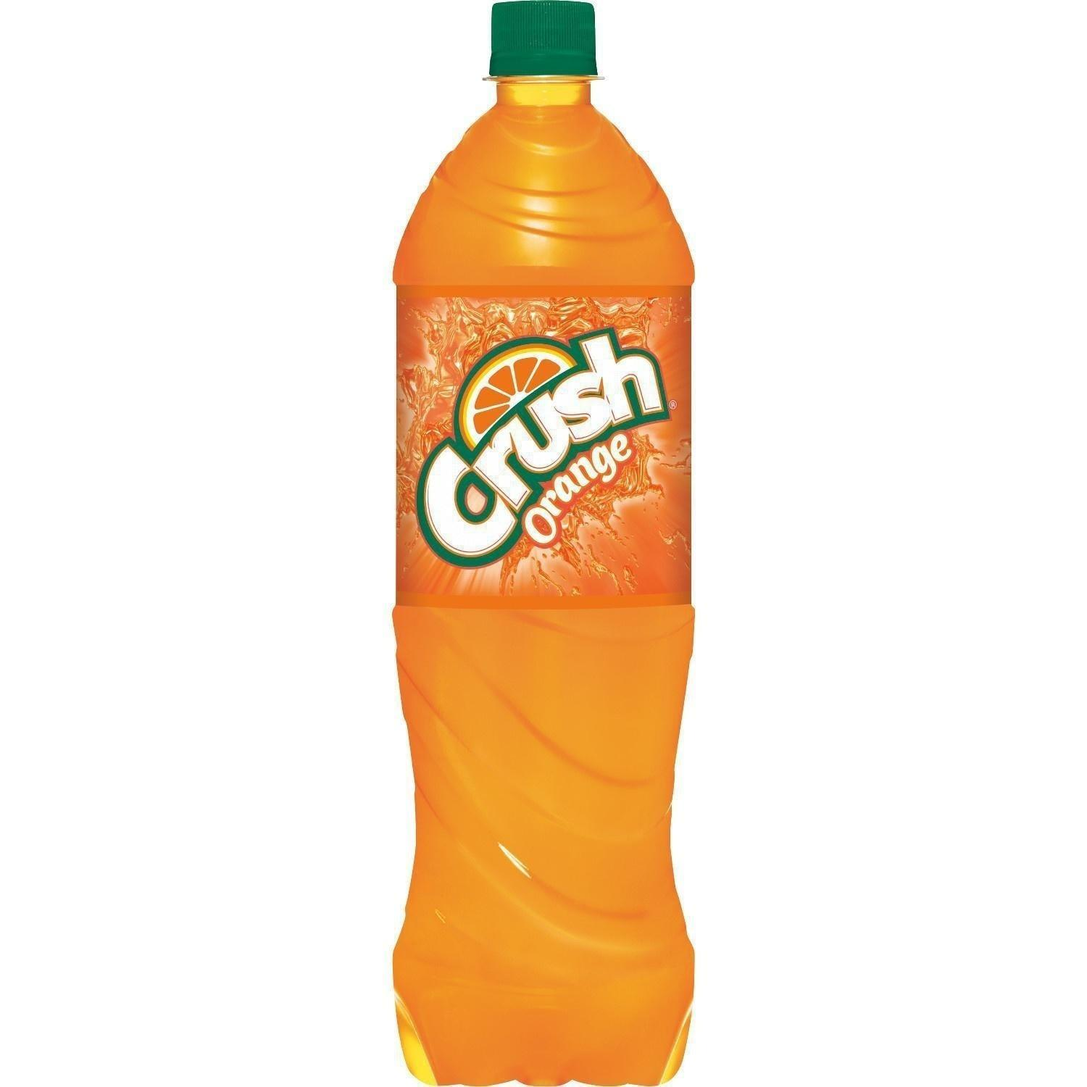bottle-plastic: (380, 2, 704, 1086)
